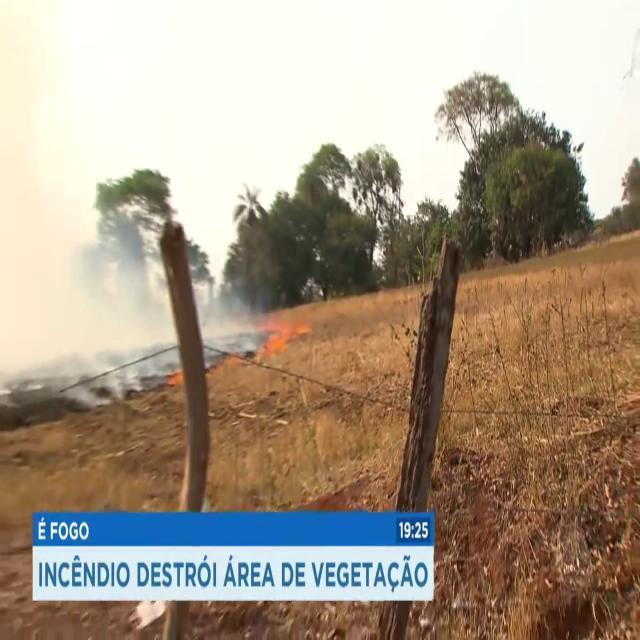Smoke: (0, 2, 160, 400)
